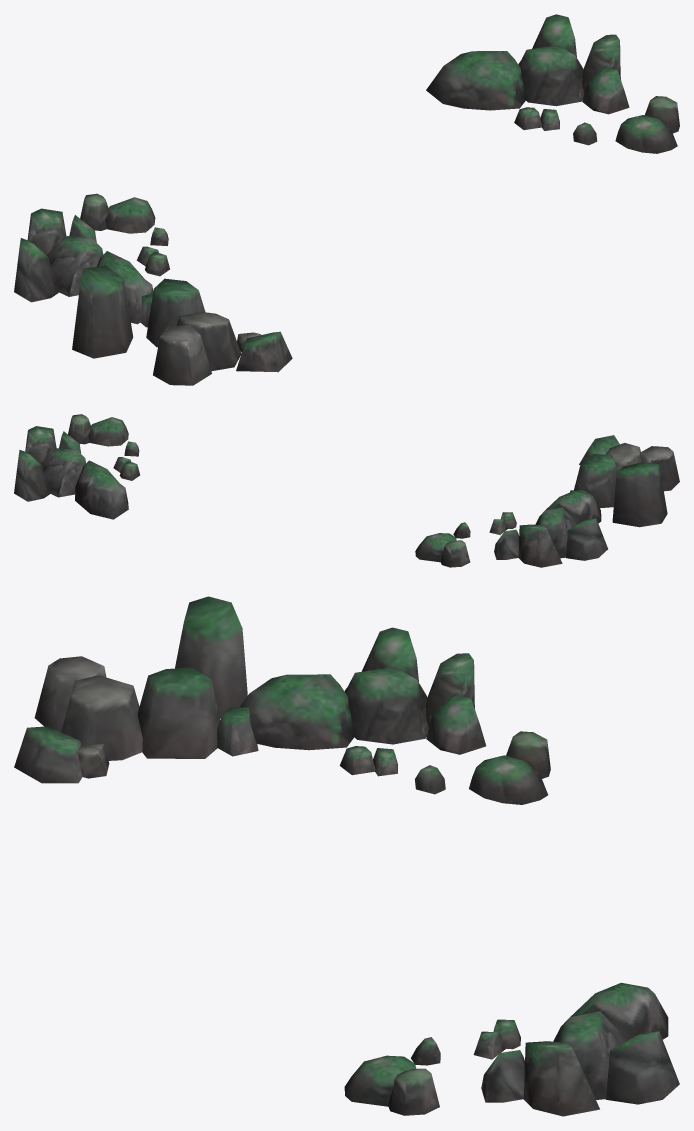
Rendered from Area_02_9.fbx.
3 views of the same model, one above another, from view 1: azimuth 30°, elevation 25°; view 2: azimuth 150°, elevation 25°; view 3: azimuth 270°, elevation 25° (orthographic). The views are drawn at different scales.
Parts seen in each view (by area): view 1: Area_02_9; view 2: Area_02_9; view 3: Area_02_9.
Part boxes in pixels (<box>): Area_02_9: <box>14,14,679,385</box>; Area_02_9: <box>14,414,679,567</box>; Area_02_9: <box>14,596,679,1116</box>.
Size of the model in its own units: 2964 by 293 by 1903.
